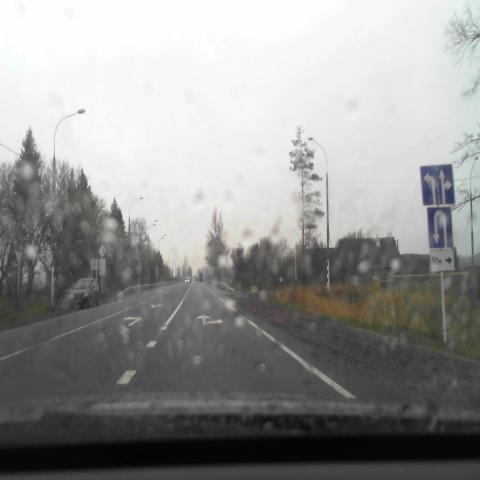8_1_3: (430, 251, 454, 272)
